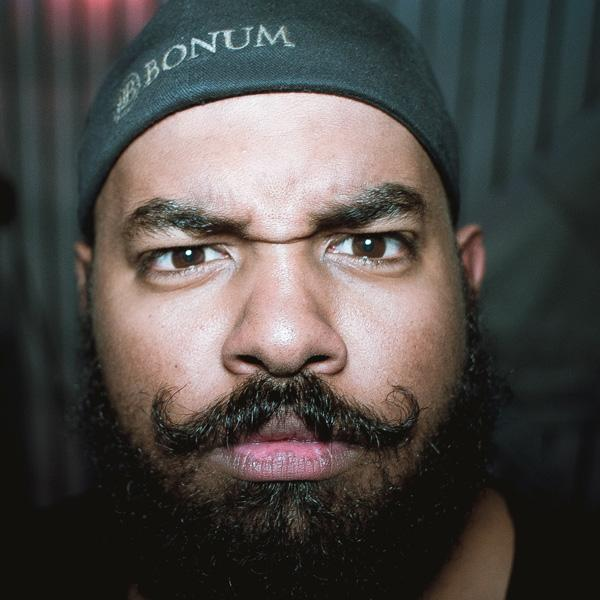Eyes: (126, 233, 245, 289), (317, 221, 426, 276)
